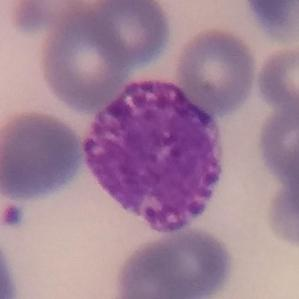Basophil: (75, 67, 235, 239)
Platelets: (0, 204, 24, 229)
RBC: (38, 13, 131, 112), (113, 225, 236, 299), (0, 107, 87, 203), (174, 26, 259, 115), (85, 0, 173, 68), (253, 40, 299, 116), (254, 103, 299, 180), (263, 170, 299, 250), (241, 0, 299, 47), (4, 0, 68, 35), (0, 234, 21, 299)
